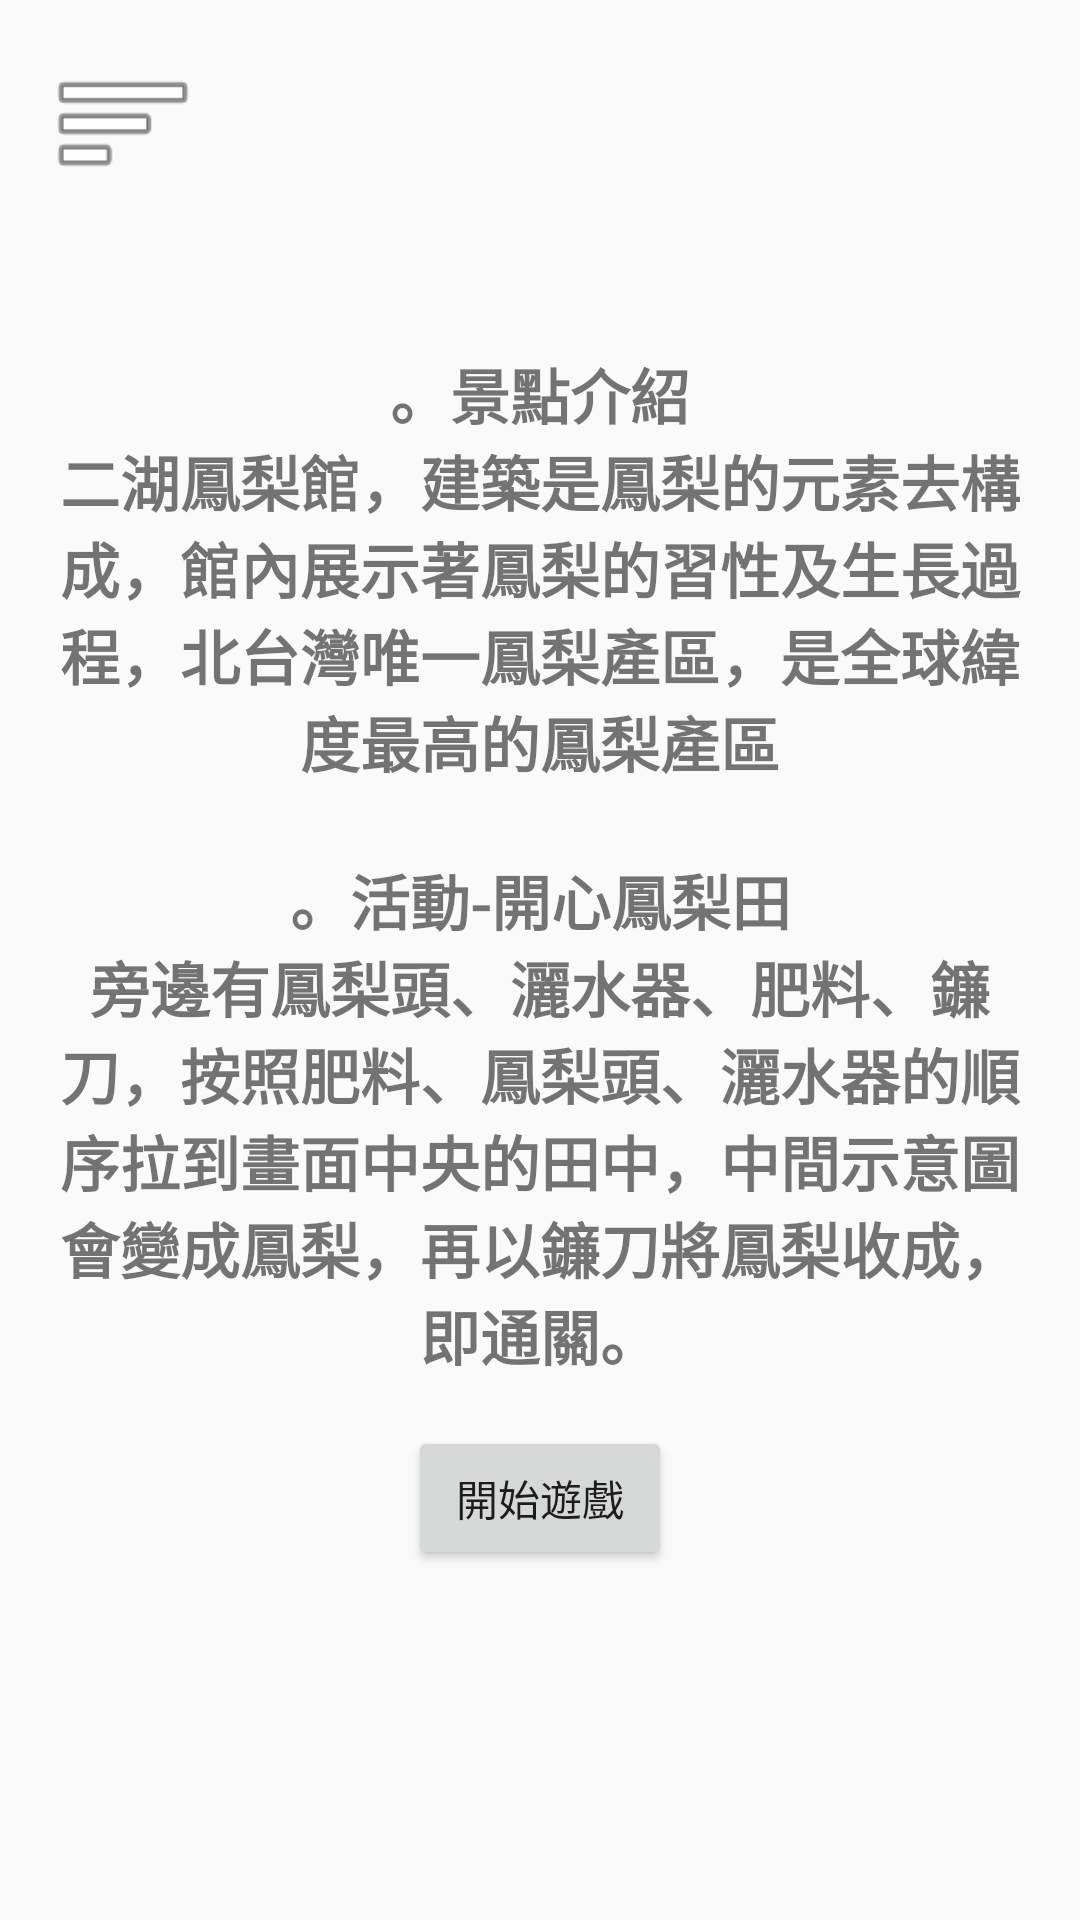

Named icons in this screenshot (1080 × 1920) and their centers, point (x, y):
sort by size: point (123, 124)
